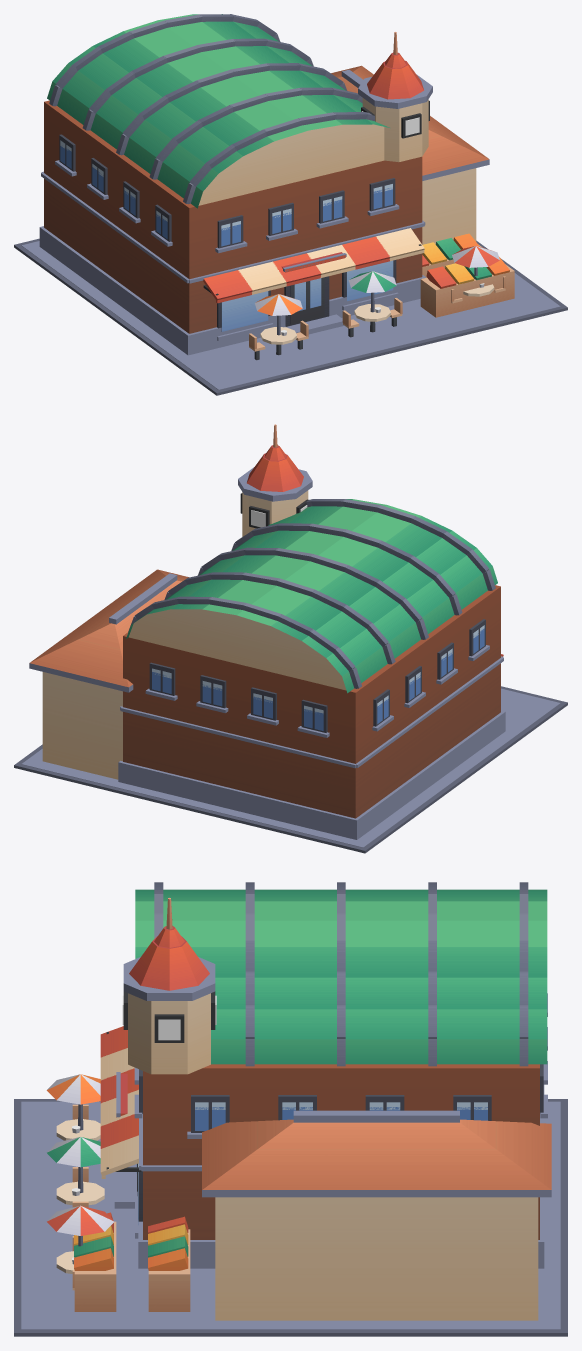
The model's file is com_farmers_bazaar_2x2.glb.
The picture shows the model from 3 angles, top to bottom: view 1: azimuth 30°, elevation 25°; view 2: azimuth 150°, elevation 25°; view 3: azimuth 270°, elevation 25°; orthographic projection. The views are drawn at different scales.
Parts seen in each view (by area): view 1: com_farmers_bazaar_2x2; view 2: com_farmers_bazaar_2x2; view 3: com_farmers_bazaar_2x2.
Boxes of the visible parts, x1,y1,x2,y2 form: com_farmers_bazaar_2x2: (14, 14, 567, 395); com_farmers_bazaar_2x2: (14, 424, 567, 853); com_farmers_bazaar_2x2: (14, 882, 567, 1336).
Size of the model in its own units: 3.74 by 2.69 by 3.74.
Materials: 1 (1 with a texture image).
